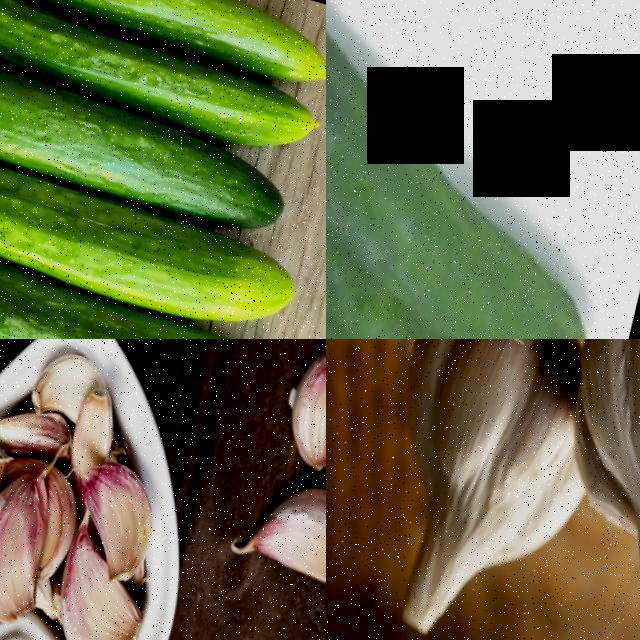cucumber: (326, 0, 640, 339), (0, 97, 324, 339), (0, 22, 303, 236), (0, 0, 326, 157), (0, 201, 304, 339), (0, 0, 326, 81)
garlic: (360, 339, 594, 607), (544, 339, 640, 607), (68, 448, 167, 581), (49, 544, 160, 640), (0, 465, 65, 625), (248, 468, 326, 587), (273, 339, 326, 477)
